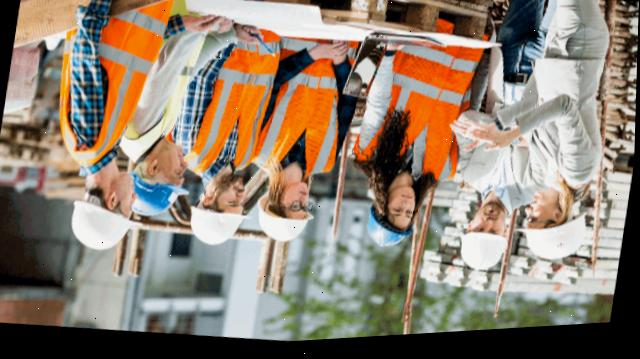helmet: (63, 196, 144, 259), (511, 222, 589, 267), (254, 194, 315, 249), (185, 204, 245, 253), (127, 175, 186, 224), (366, 210, 414, 259), (462, 233, 509, 276)
vest: (64, 0, 161, 174), (372, 25, 475, 186), (258, 34, 350, 181), (195, 20, 272, 176), (147, 9, 195, 150)
